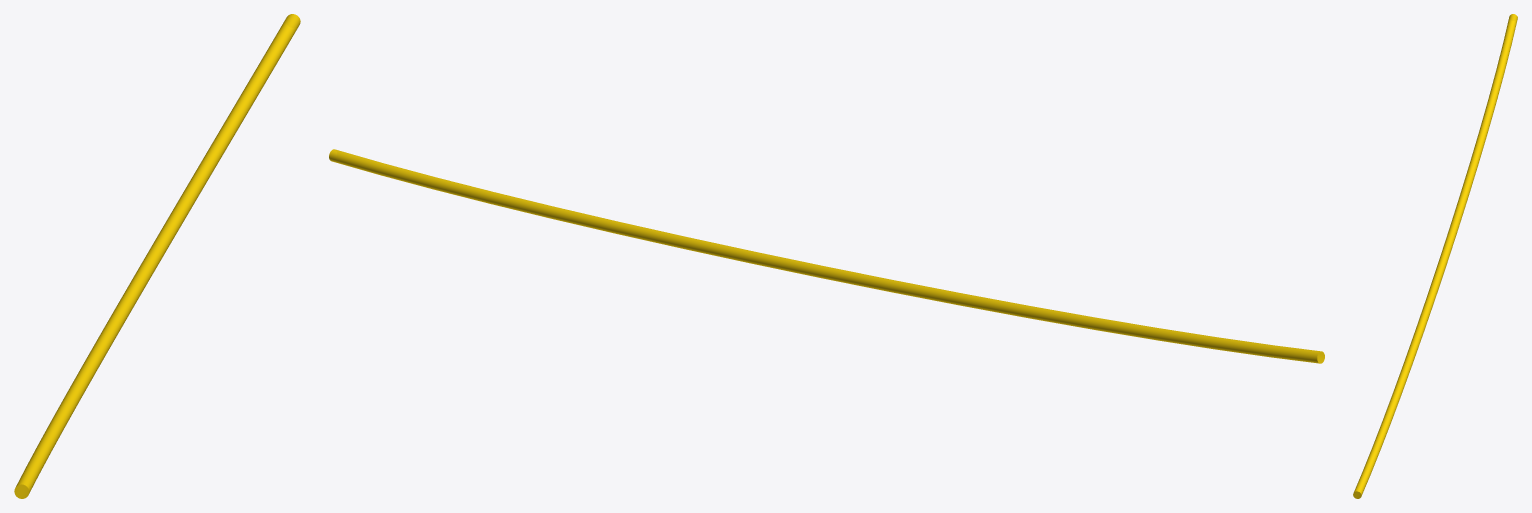
Rendered from Event_420094457_track_29.fbx.
3 renders of one model, left to right at view 1: azimuth 90°, elevation 25°; view 2: azimuth 150°, elevation 25°; view 3: azimuth 270°, elevation 25°, orthographic. The views are drawn at different scales.
Visible parts, largest first — view 1: Model; view 2: Model; view 3: Model.
Boxes of the visible parts, x1,y1,x2,y2 form: Model: [14, 14, 300, 498]; Model: [329, 149, 1324, 363]; Model: [1353, 14, 1517, 498].
Bounding box in the file's own units: 4.09 × 0.5646 × 0.7587.
